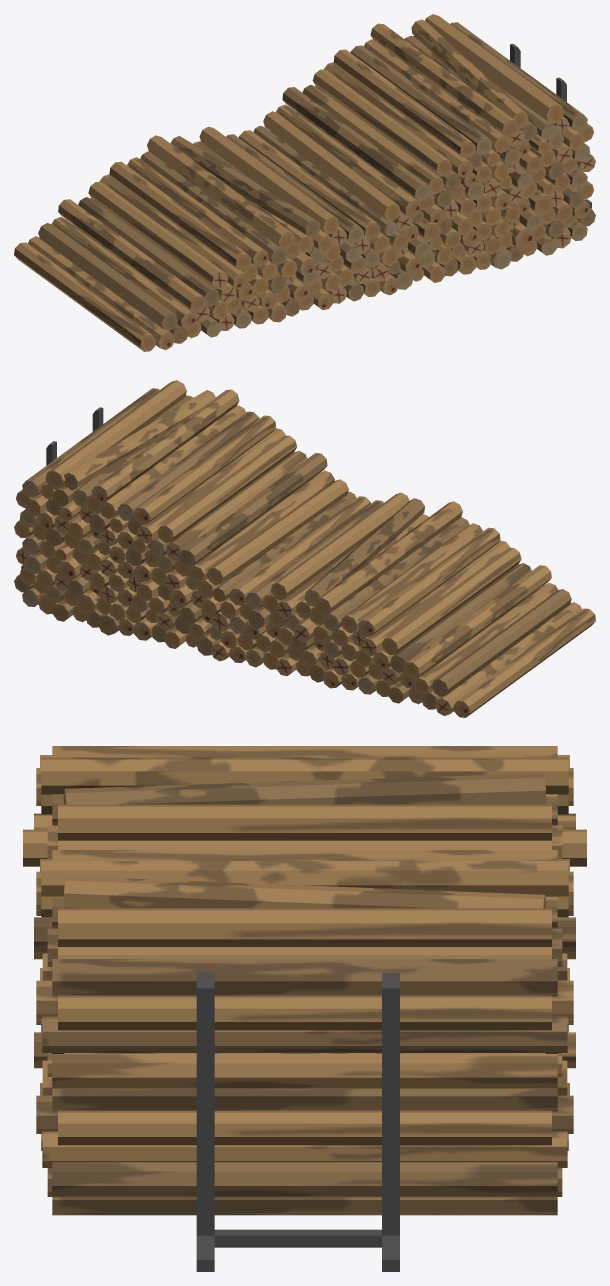
The model's file is SM_Prop_LogPile_Preset_Large_03.fbx.
3 views of the same model, one above another, from view 1: azimuth 30°, elevation 25°; view 2: azimuth 150°, elevation 25°; view 3: azimuth 270°, elevation 25° (orthographic). The views are drawn at different scales.
Visible parts, largest first — view 1: SM_Prop_LogPile_Preset_Large_03; view 2: SM_Prop_LogPile_Preset_Large_03; view 3: SM_Prop_LogPile_Preset_Large_03.
Boxes of the visible parts, x1=… form: SM_Prop_LogPile_Preset_Large_03: x1=14, y1=14, x2=595, y2=351; SM_Prop_LogPile_Preset_Large_03: x1=14, y1=380, x2=595, y2=717; SM_Prop_LogPile_Preset_Large_03: x1=23, y1=746, x2=586, y2=1271.
Bounding box in the file's own units: 2116 × 612 × 1059.
